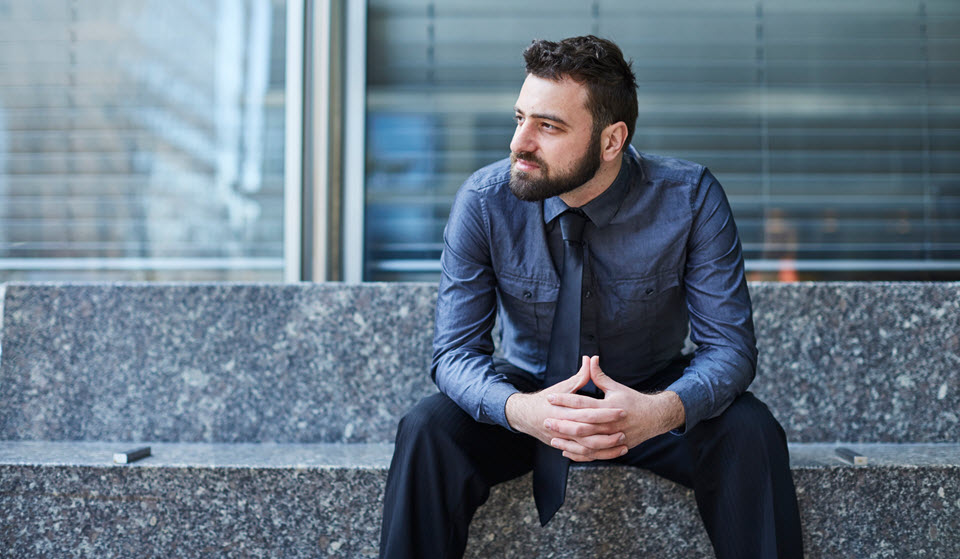NOTSAFE: (493, 35, 692, 381)
